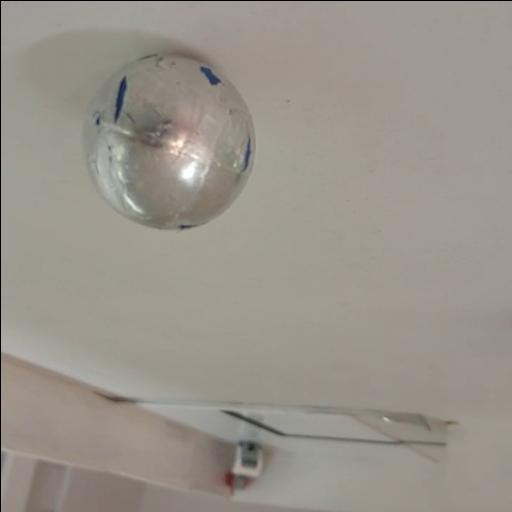alive: (82, 51, 256, 232)
